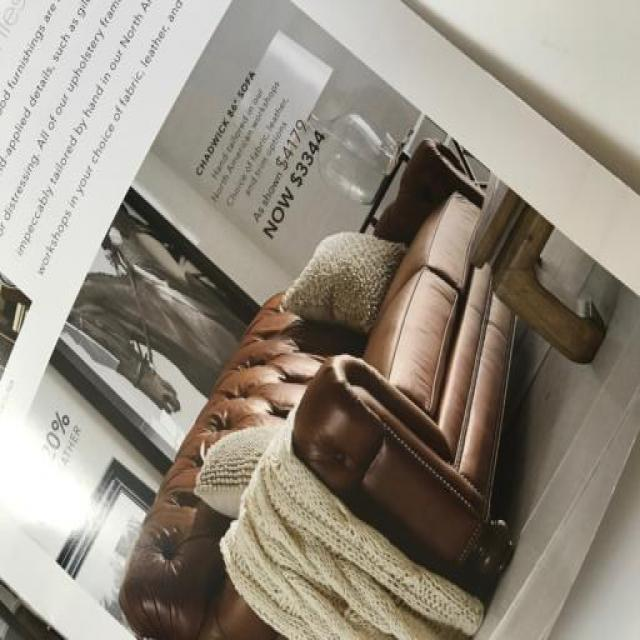paper: (6, 2, 631, 640)
